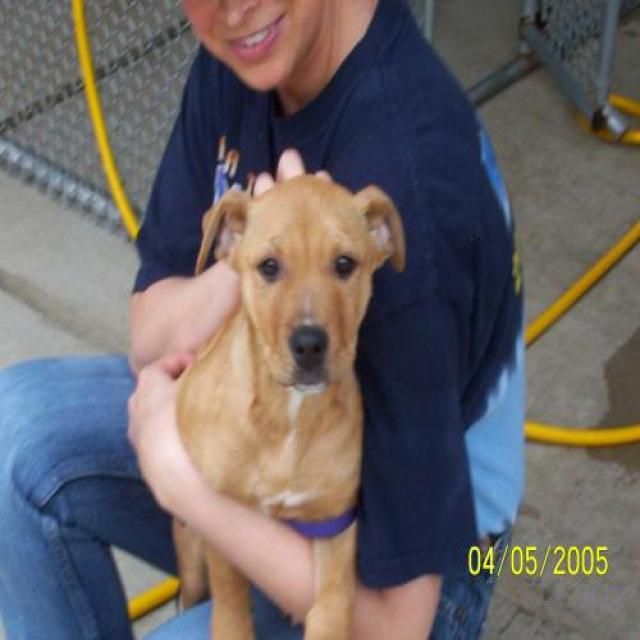Dogs: (168, 165, 406, 638)
